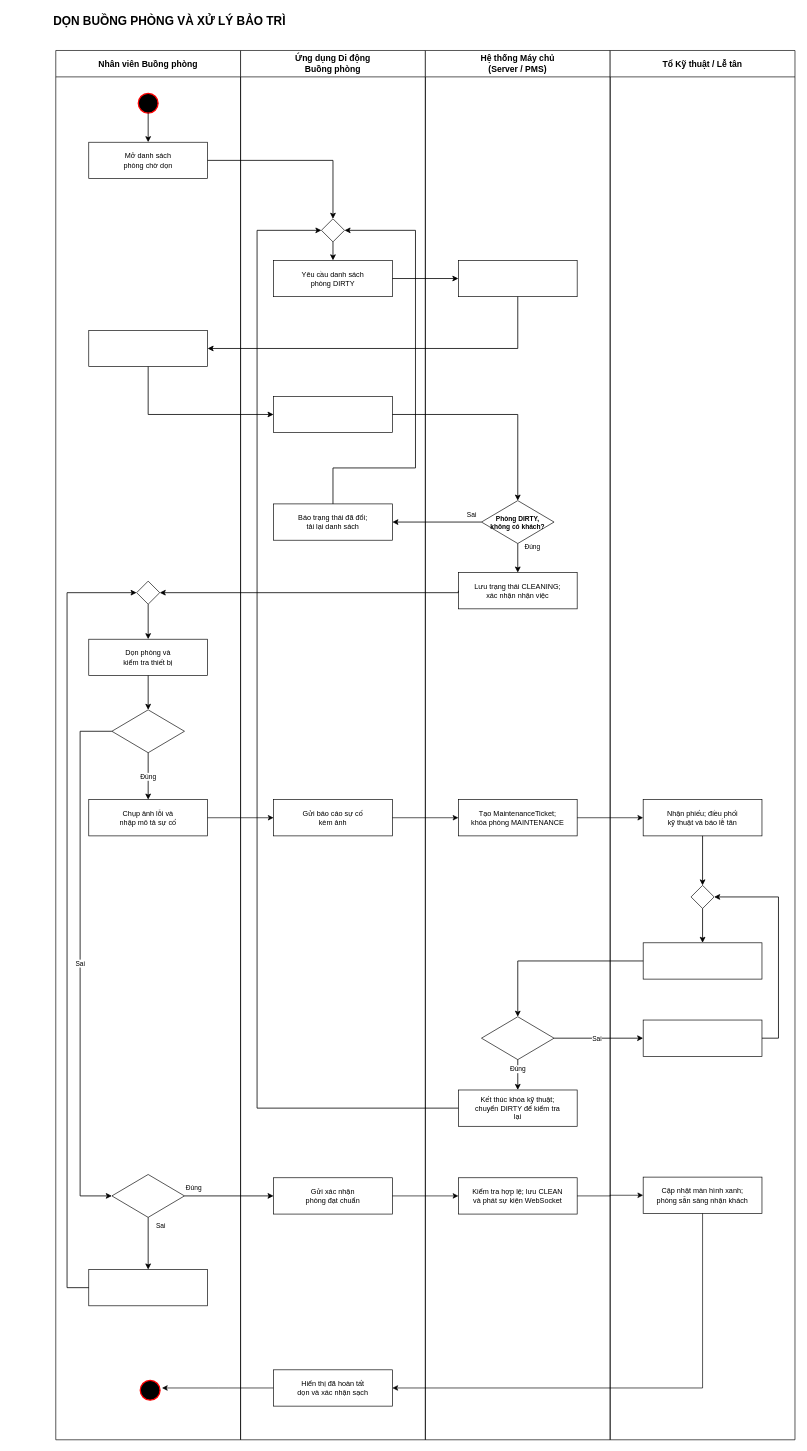
Some shapes in this 807 by 1451 pixel diagram are drawn without their labels. The shapes that lost their labels are listed below. From the top down, each one's centre as x and y in pixels, then its label:
At pixel 517 278: "Trả danh sách và phiên bản trạng thái phòng".
At pixel 148 348: "Chọn phòng và bắt đầu nhận dọn".
At pixel 332 414: "Gửi yêu cầu chuyển phòng sang CLEANING".
At pixel 147 731: "Phát hiện hư hỏng?".
At pixel 702 960: "Sửa chữa và gửi kết quả xử lý".
At pixel 517 1038: "Đã sửa xong thiết bị?".
At pixel 702 1037: "Giữ khóa; yêu cầu kỹ thuật tiếp tục sửa".
At pixel 147 1195: "Phòng đạt chuẩn sạch?".
At pixel 148 1287: "Tiếp tục dọn và khắc phục điểm chưa đạt".
